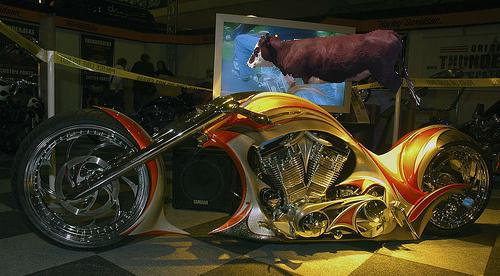tampered: (247, 30, 420, 106)
